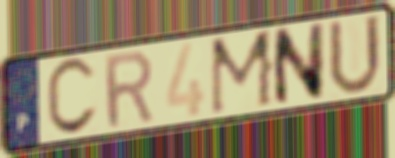4: (164, 40, 209, 119)
C: (44, 55, 100, 140)
M: (208, 26, 276, 119)
N: (270, 20, 327, 110)
R: (101, 47, 156, 132)
U: (326, 12, 385, 99)
